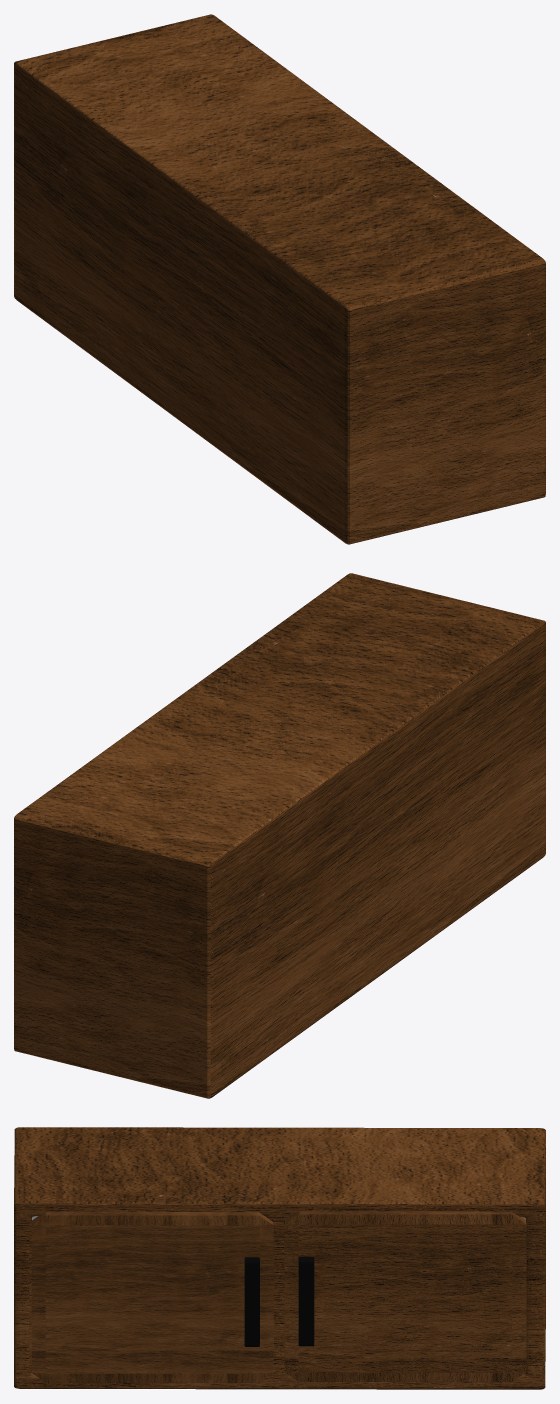
Rendered from UPPER_KITCHEN_COFFEE_CABINET.glb.
The picture shows the model from 3 angles, top to bottom: view 1: azimuth 30°, elevation 25°; view 2: azimuth 150°, elevation 25°; view 3: azimuth 270°, elevation 25°; orthographic projection. The views are drawn at different scales.
Parts seen in each view (by area): view 1: BODY.001; view 2: BODY.001; view 3: BODY.001, LEFT DOOR, RIGHT DOOR.
Boxes of the visible parts, x1,y1,x2,y2 form: BODY.001: (14,14,545,544); BODY.001: (14,573,545,1098); BODY.001: (14,1127,545,1389); LEFT DOOR: (31,1212,273,1382); RIGHT DOOR: (284,1211,526,1381).
Bounding box in the file's own units: 0.8403 × 0.8503 × 2.19.
6 materials, 4 textured.
